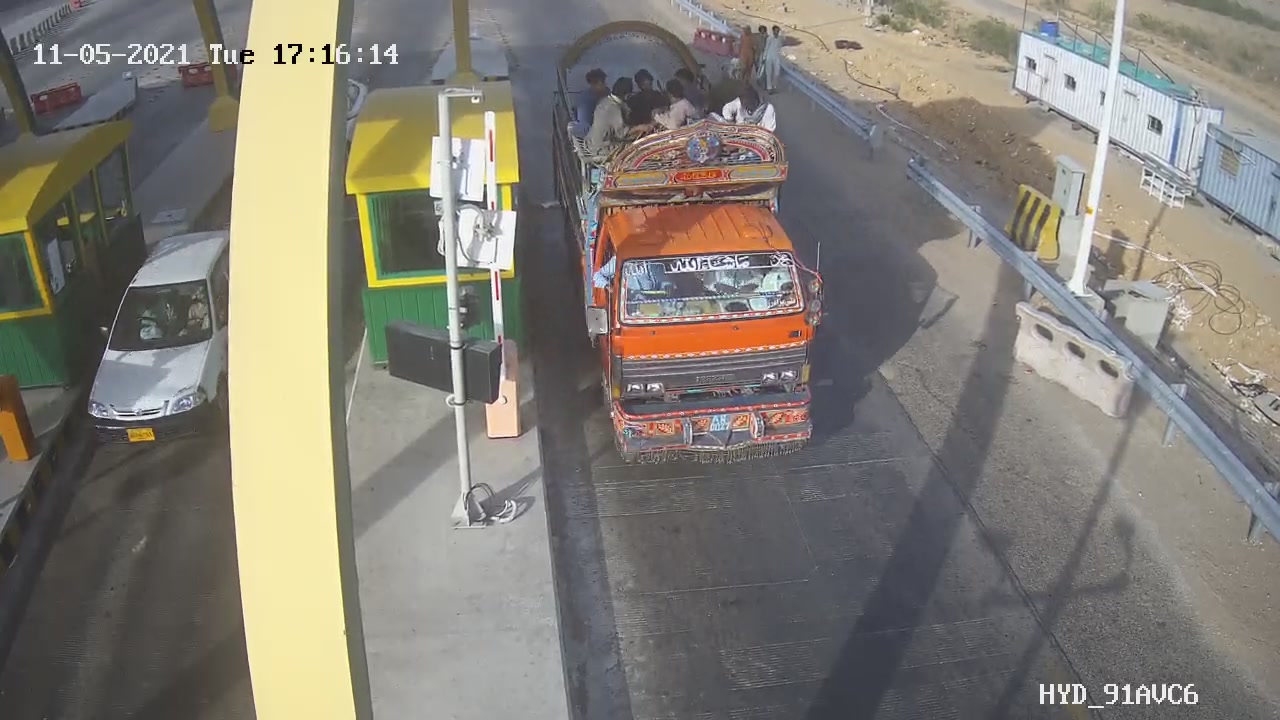F5: (533, 9, 847, 482)
